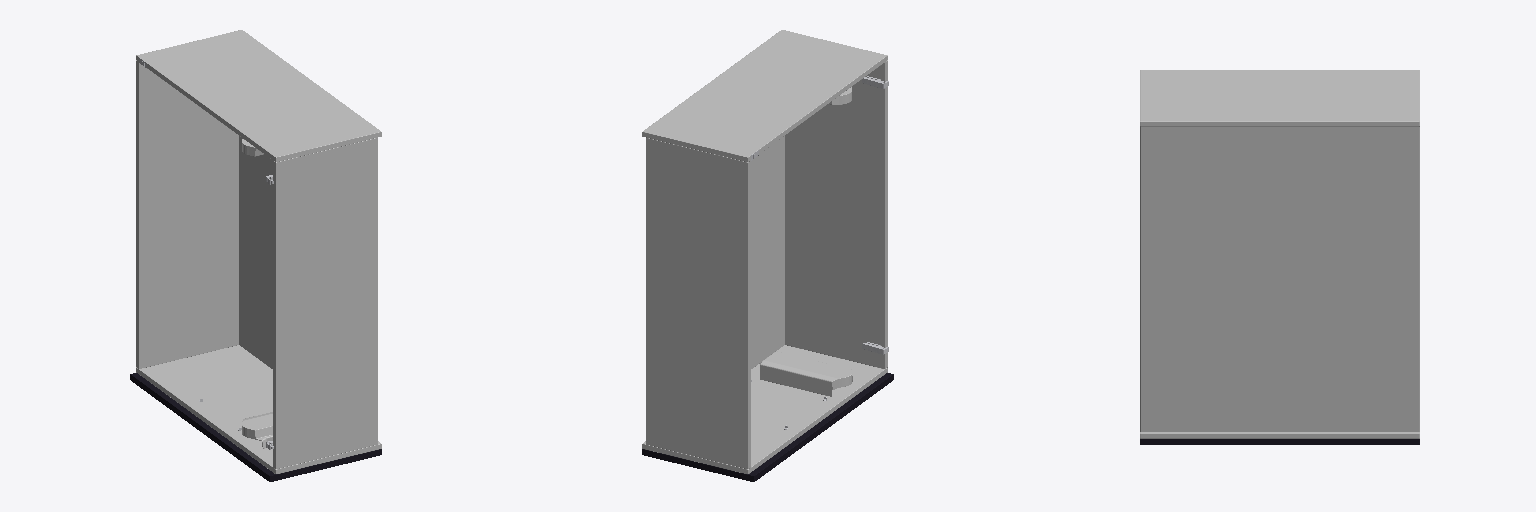
3 views of the same model, side by side, from view 1: azimuth 30°, elevation 25°; view 2: azimuth 150°, elevation 25°; view 3: azimuth 270°, elevation 25° (orthographic).
Visible parts, largest first — view 1: SM_Kitchen_04_Base; view 2: SM_Kitchen_04_Base; view 3: SM_Kitchen_04_Base.
Part boxes in pixels (x1,y1,x2,y2): SM_Kitchen_04_Base: (130, 30, 381, 481); SM_Kitchen_04_Base: (642, 30, 893, 481); SM_Kitchen_04_Base: (1140, 70, 1419, 444).
Bounding box in the file's own units: 0.37 × 1.02 × 0.798.
4 materials, 2 textured.